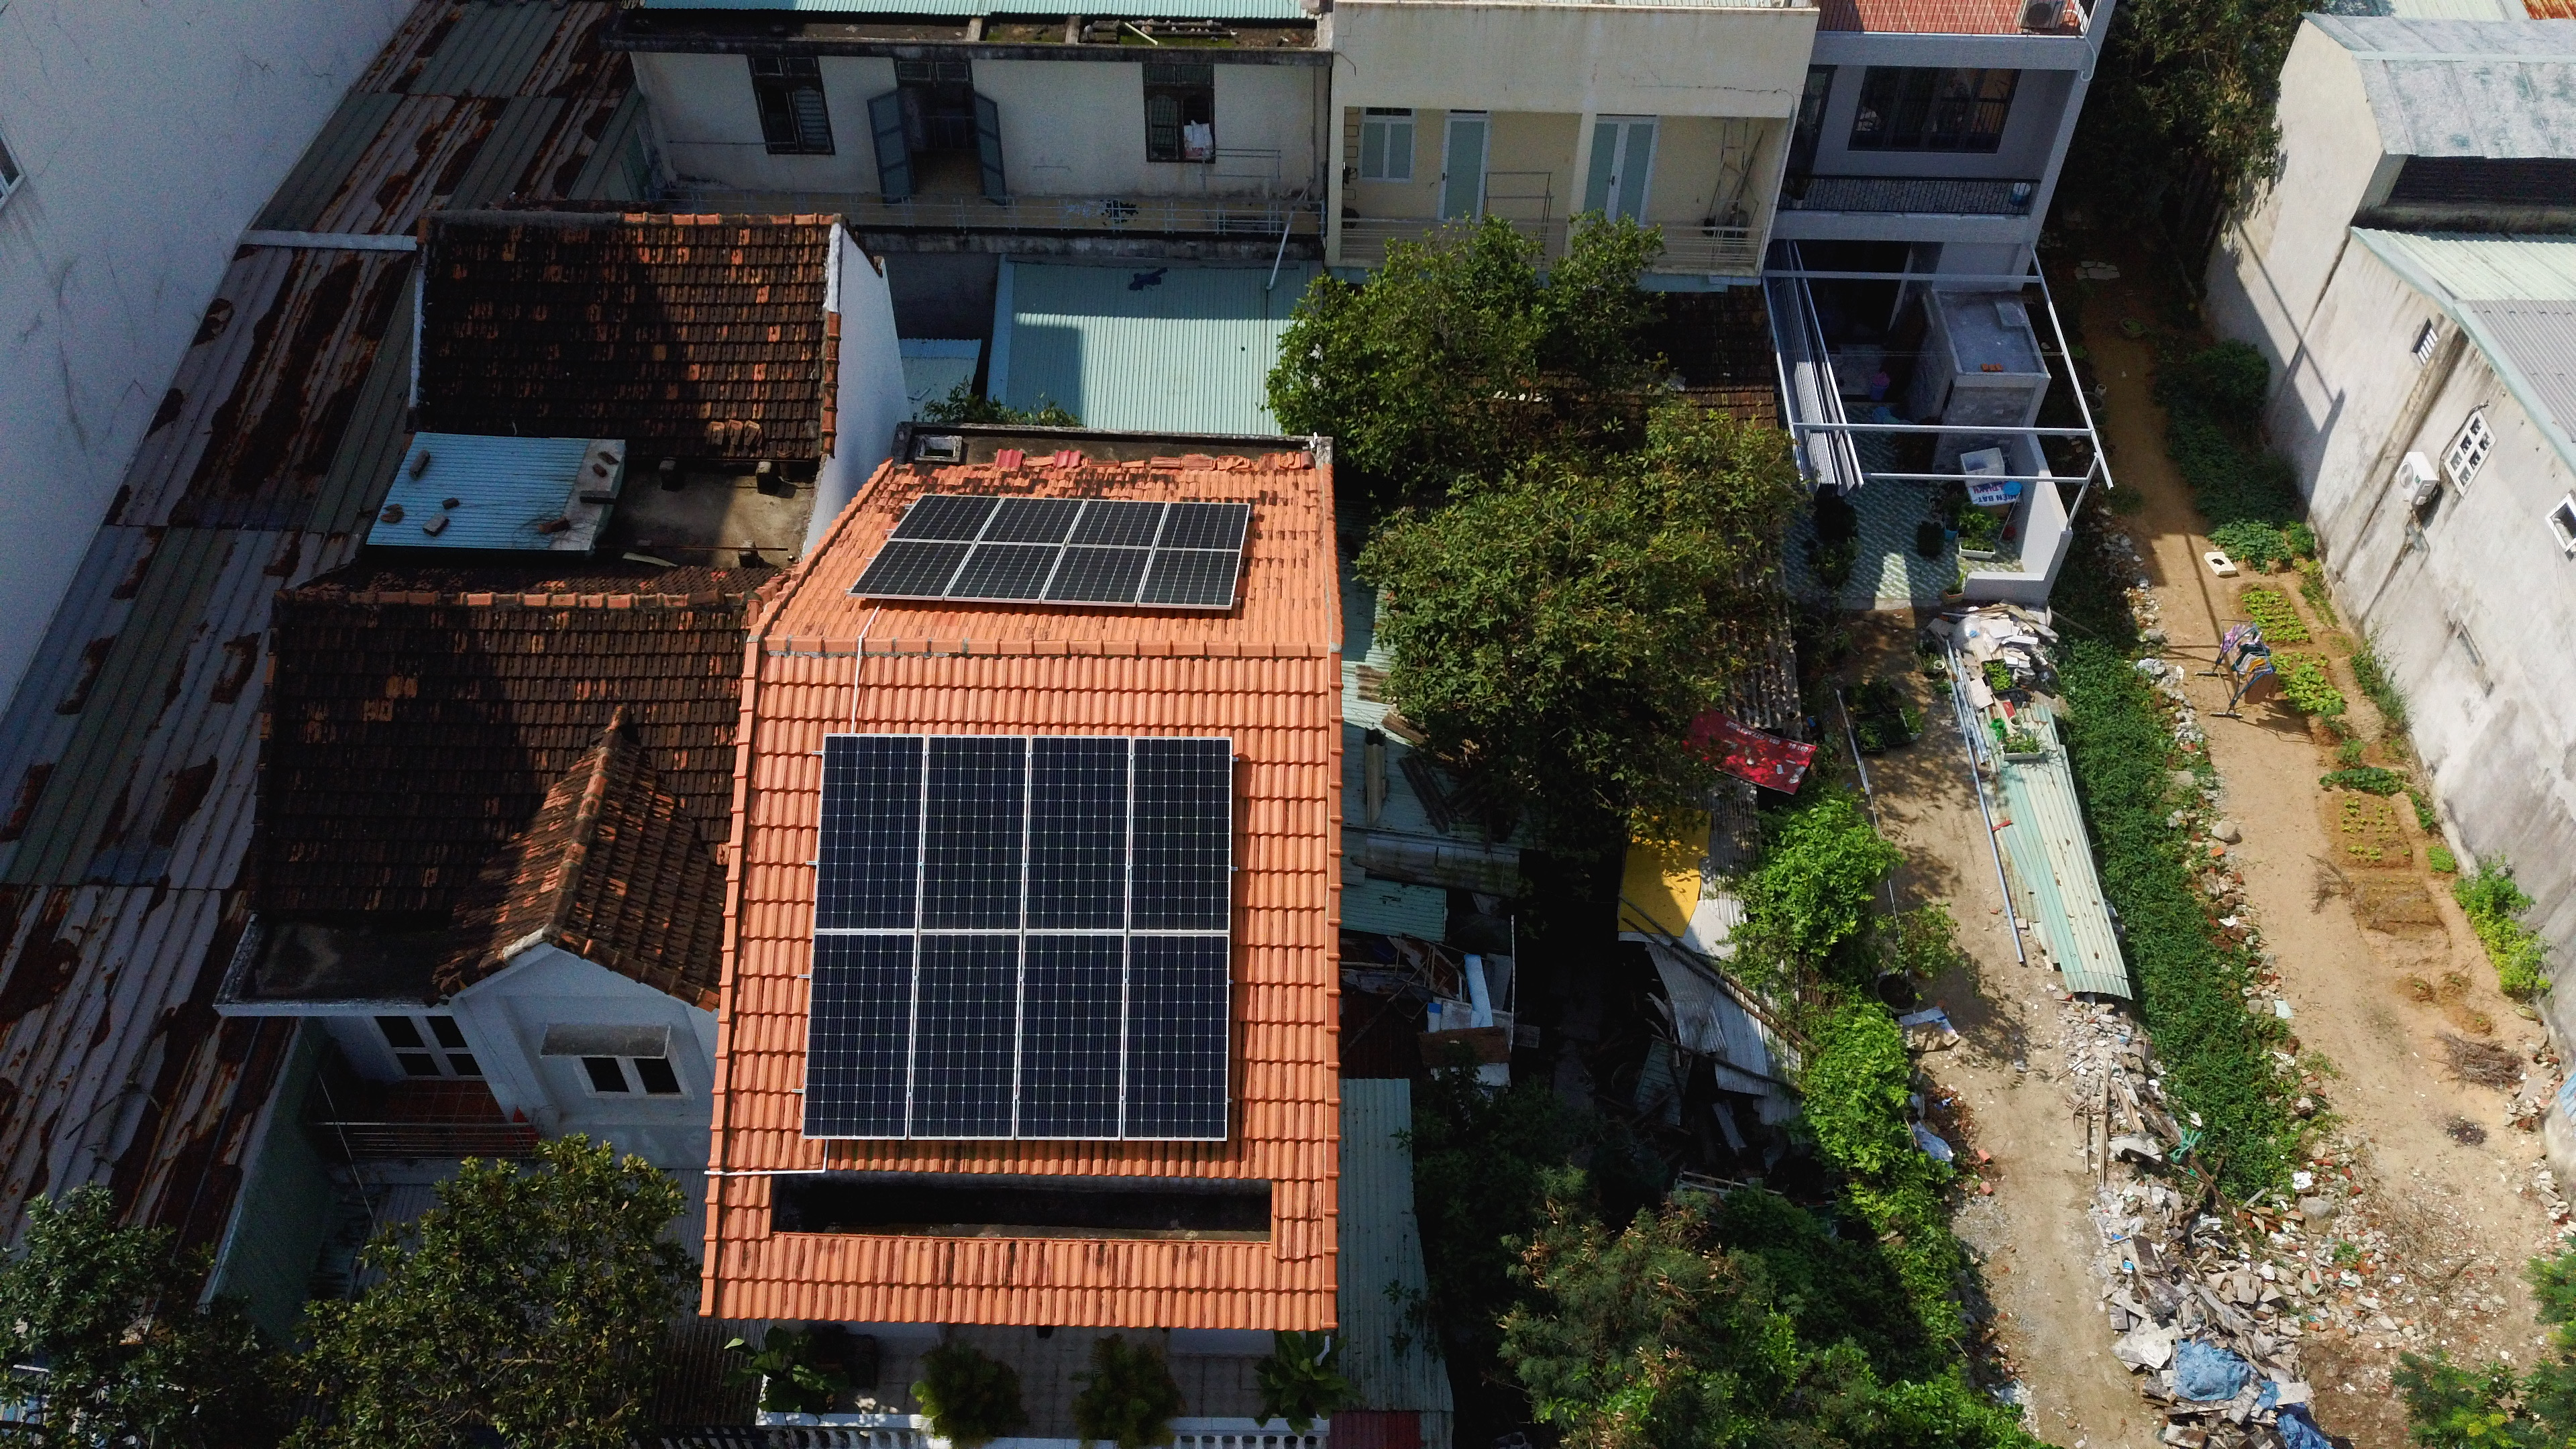solar: (801, 934, 918, 1139), (908, 932, 1021, 1141), (1118, 934, 1231, 1143), (1012, 931, 1123, 1138), (918, 732, 1028, 934), (1023, 732, 1132, 934), (812, 732, 922, 932), (1127, 732, 1233, 936), (846, 536, 975, 600), (943, 541, 1063, 605), (1039, 545, 1155, 607), (1138, 547, 1242, 610), (885, 490, 1005, 543), (975, 495, 1086, 548), (1060, 501, 1171, 550), (1150, 501, 1251, 552)
